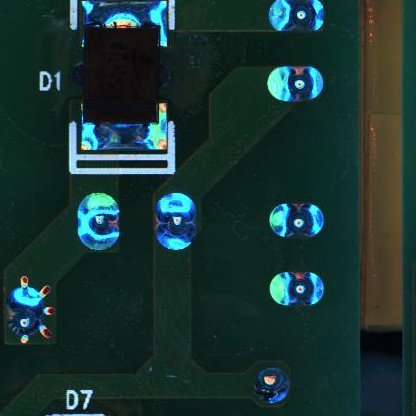spot: (6, 275, 54, 343), (75, 190, 120, 251), (154, 191, 199, 251), (267, 64, 323, 102), (269, 202, 325, 238), (269, 270, 324, 306), (267, 1, 325, 35), (256, 369, 291, 404)
